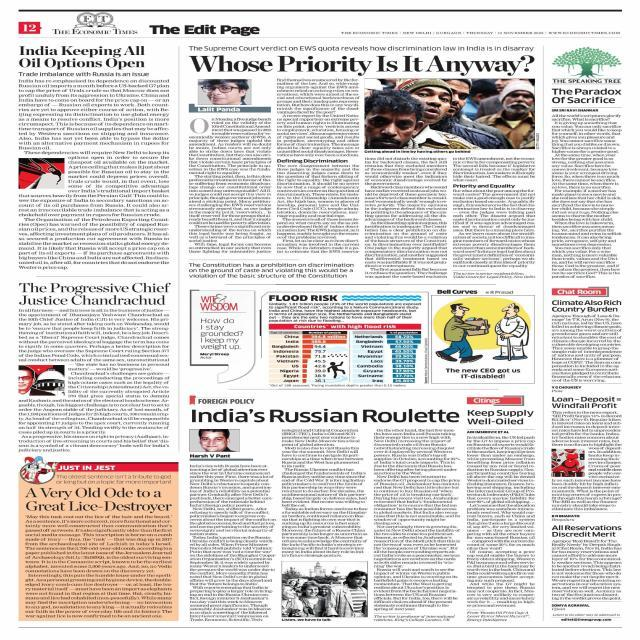Article: (183, 42, 540, 281), (185, 406, 541, 626), (182, 279, 536, 406), (10, 42, 175, 274), (11, 458, 180, 625), (14, 282, 176, 456), (548, 40, 625, 283), (543, 392, 626, 522), (546, 284, 628, 390), (546, 520, 626, 626)
Body: (373, 427, 462, 612), (25, 514, 173, 620), (278, 79, 362, 254), (188, 462, 275, 623), (466, 434, 536, 608), (550, 114, 622, 278), (17, 78, 172, 154), (17, 194, 172, 270), (186, 118, 272, 254), (280, 428, 367, 558), (364, 156, 448, 278), (452, 156, 536, 267), (16, 398, 170, 453), (16, 308, 170, 362), (551, 314, 623, 383), (552, 539, 622, 600), (68, 155, 170, 193), (68, 363, 170, 398), (268, 302, 422, 323), (550, 410, 622, 446), (550, 479, 624, 511), (587, 447, 623, 478)
Date: (464, 31, 546, 35)
Heading: (188, 54, 534, 78), (190, 408, 460, 424), (23, 487, 172, 513), (18, 282, 172, 305), (17, 44, 146, 70), (549, 88, 622, 104), (466, 409, 536, 425), (550, 298, 623, 312), (551, 524, 623, 537), (552, 396, 622, 408), (268, 294, 340, 302)
Highlights: (188, 262, 356, 279), (187, 45, 535, 52), (199, 318, 244, 350), (55, 474, 174, 484), (19, 71, 152, 77)
Image: (364, 79, 534, 149), (434, 295, 536, 383), (269, 330, 422, 384), (284, 561, 368, 616), (550, 46, 623, 78), (20, 364, 66, 396), (18, 158, 64, 188), (199, 79, 250, 105), (190, 429, 240, 451)
Name: (146, 24, 262, 36), (50, 28, 140, 36)
